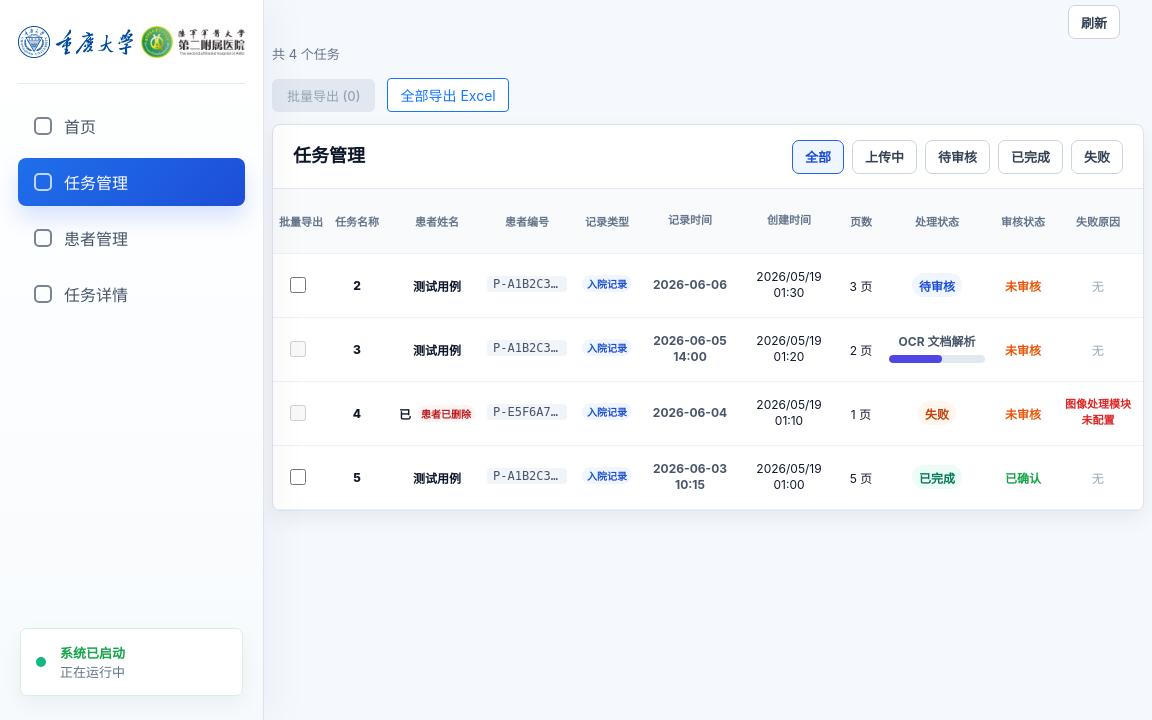
it: MVP task list and retry › refreshes task data and shows backend status changes
The image size is (1152, 720).
Click the button "刷新": (1094, 22) [1068,5,1120,39]
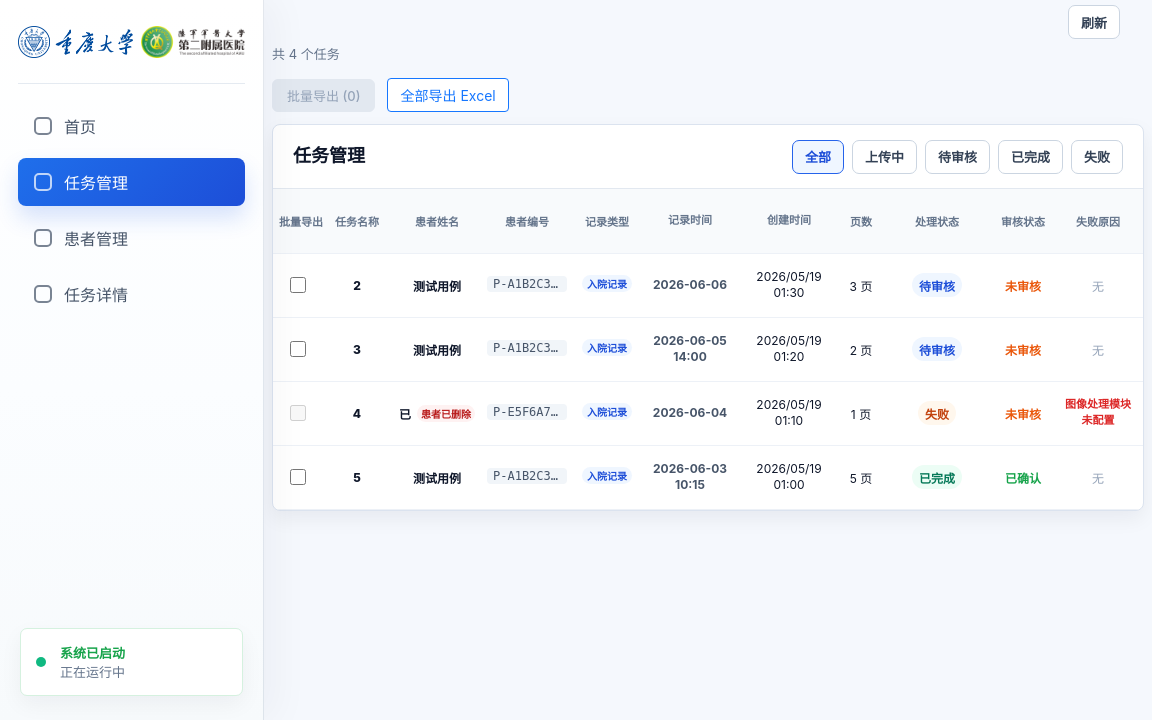
Check: the text "3" shows "待审核", box [919,342,955,358]
